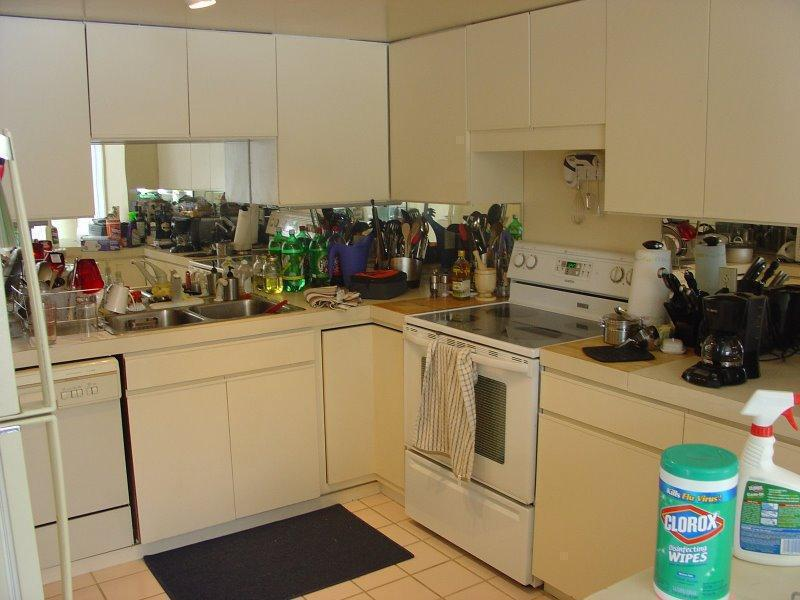Electrodomestico: (406, 318, 540, 584), (30, 362, 136, 556)
